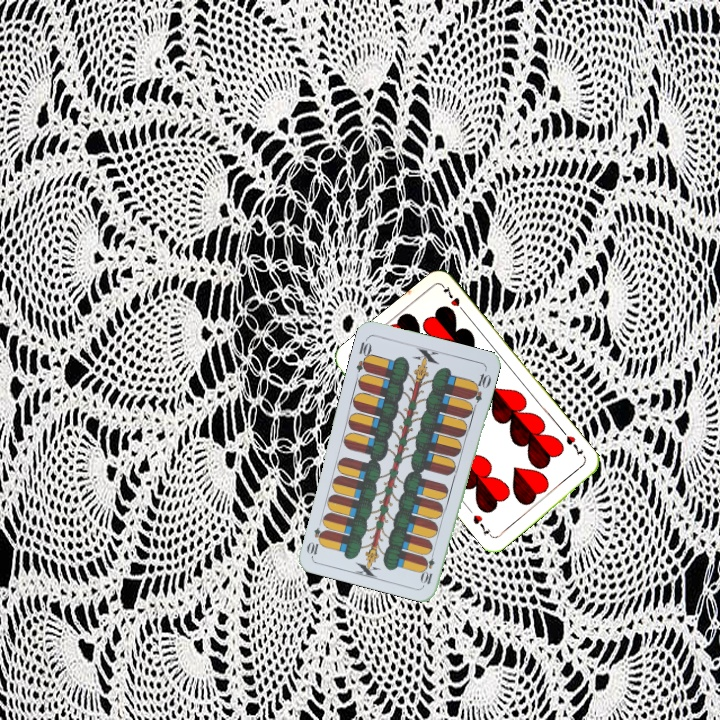E10: (352, 334, 374, 375), (418, 546, 437, 587)
H7: (562, 431, 586, 458)
